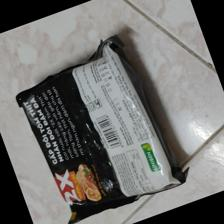3mien: (15, 34, 190, 224)
